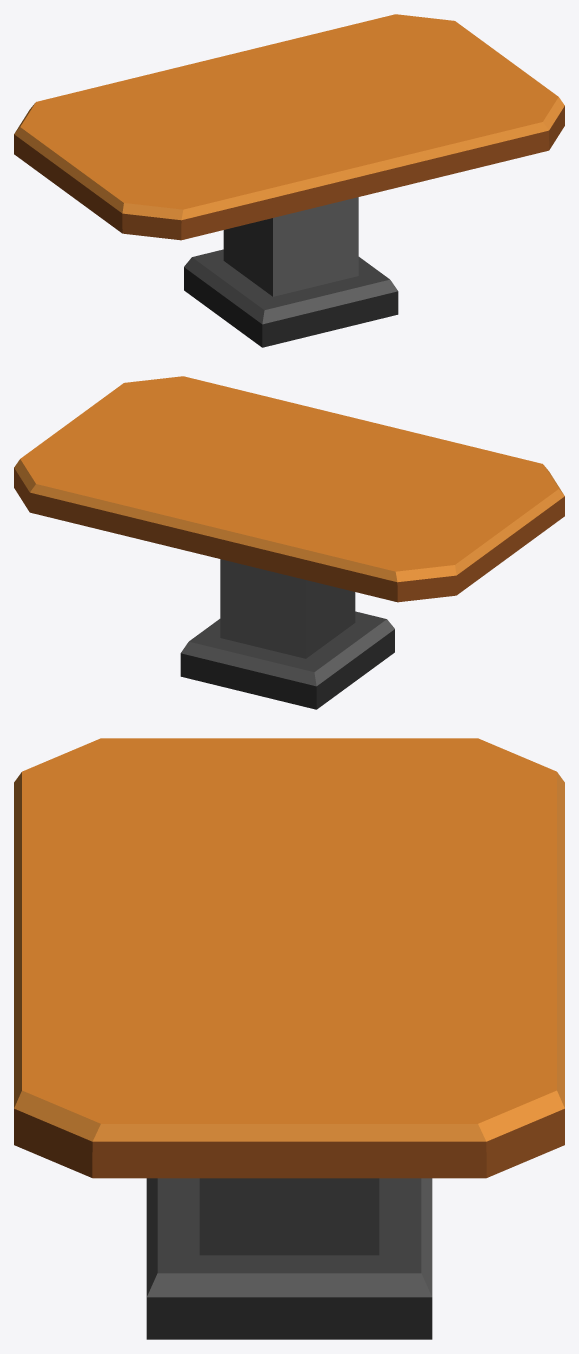
File: CR_Table_Large_2.fbx
3 views of the same model, one above another, from view 1: azimuth 30°, elevation 25°; view 2: azimuth 150°, elevation 25°; view 3: azimuth 270°, elevation 25° (orthographic). The views are drawn at different scales.
Parts seen in each view (by area): view 1: CR_Table_Large_2; view 2: CR_Table_Large_2; view 3: CR_Table_Large_2.
Part boxes in pixels (box(x1,y1,x2,y2)): CR_Table_Large_2: box(14, 14, 564, 347); CR_Table_Large_2: box(14, 376, 564, 709); CR_Table_Large_2: box(14, 738, 564, 1339).
Bounding box in the file's own units: 1.68 × 0.6947 × 1.
